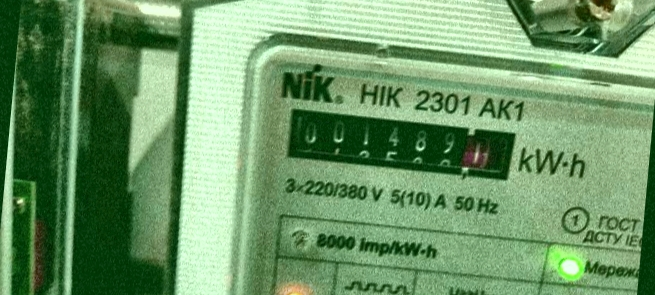0: (301, 118, 319, 144), (329, 116, 347, 142)
1: (357, 118, 374, 148), (468, 134, 483, 165)
4: (384, 121, 403, 149)
8: (410, 124, 429, 152)
9: (439, 128, 456, 154)
screen: (270, 95, 532, 194)
